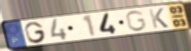1: (82, 14, 97, 38)
4: (98, 11, 120, 36), (49, 18, 70, 42)
G: (23, 21, 48, 44), (124, 9, 148, 32)
K: (148, 7, 171, 30)
